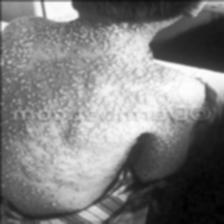Toxin: (1, 31, 136, 97), (0, 130, 113, 197), (119, 74, 198, 102), (150, 125, 187, 166)
